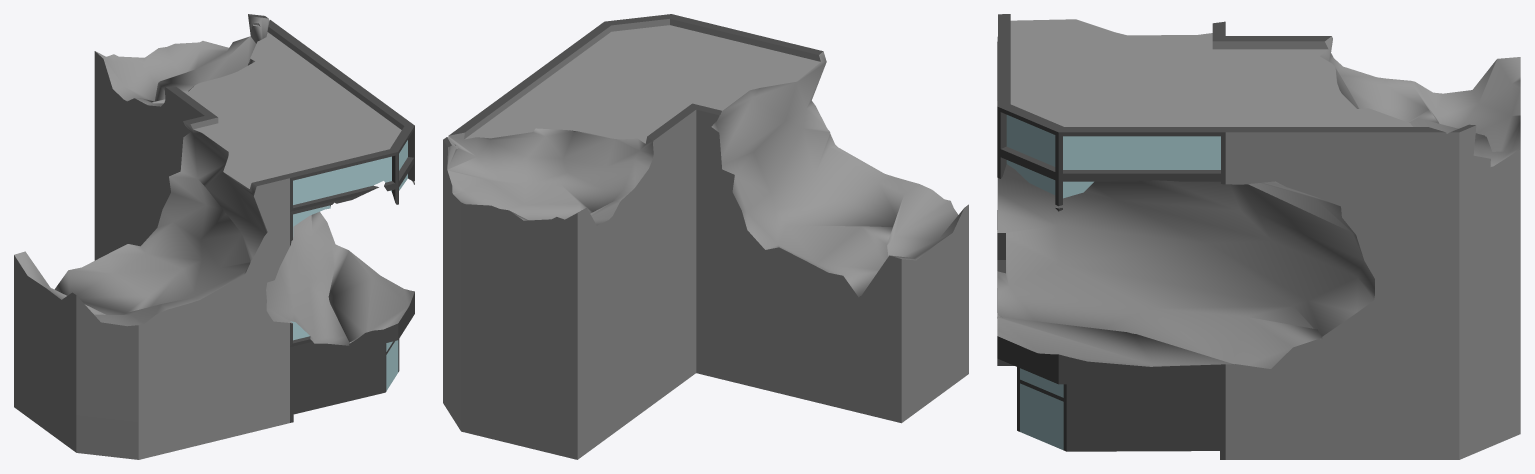
3 views of the same model, side by side, from view 1: azimuth 30°, elevation 25°; view 2: azimuth 150°, elevation 25°; view 3: azimuth 270°, elevation 25° (orthographic). The views are drawn at different scales.
Visible parts, largest first — view 1: Cube.007; view 2: Cube.007; view 3: Cube.007.
Boxes of the visible parts, left/top/right/bottom form: Cube.007: left=14, top=14, right=414, bottom=459; Cube.007: left=443, top=14, right=968, bottom=459; Cube.007: left=997, top=14, right=1520, bottom=459.
Bounding box in the file's own units: 486 × 486 × 336.
